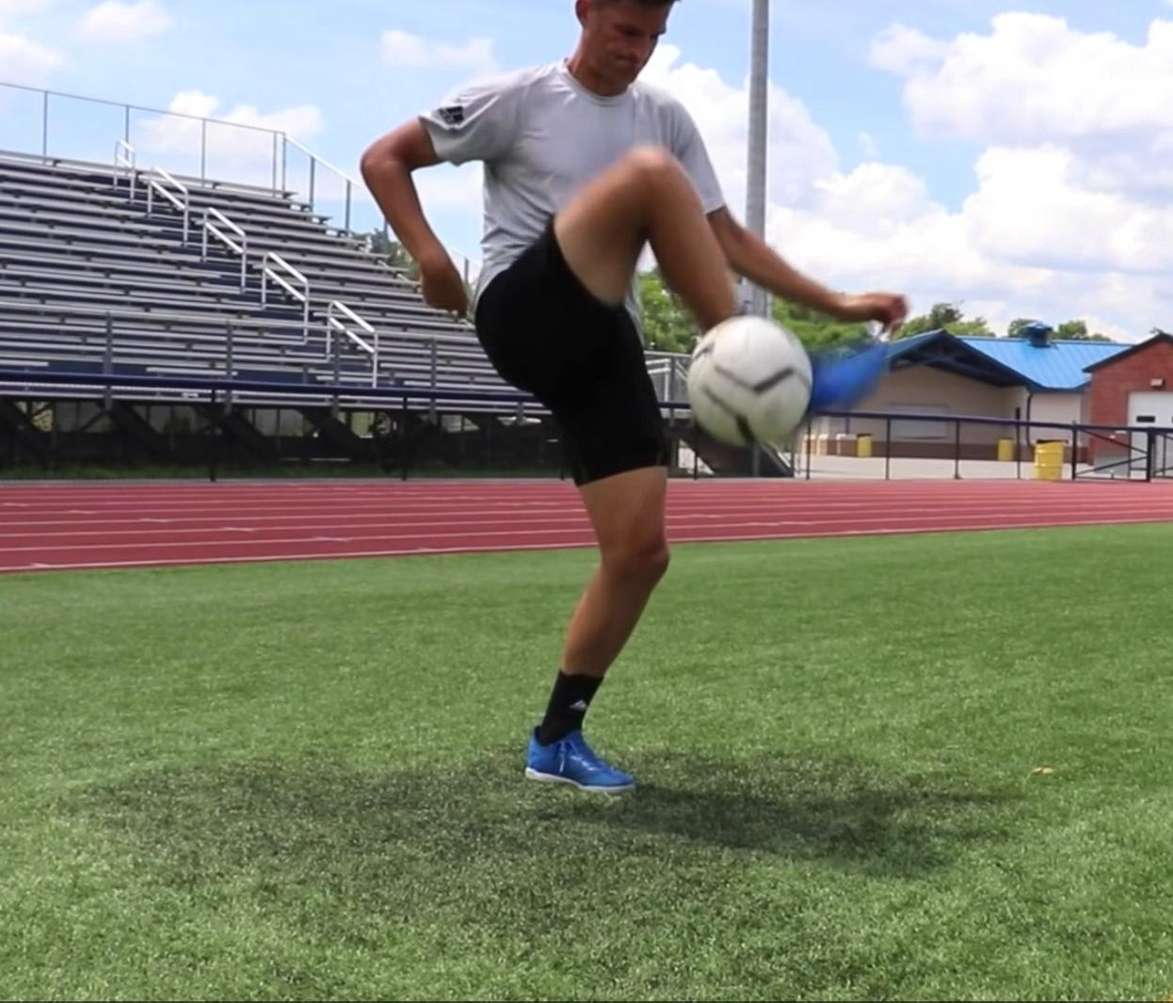ball: (685, 318, 813, 447)
foot: (521, 723, 640, 797)
person: (360, 0, 907, 798)
